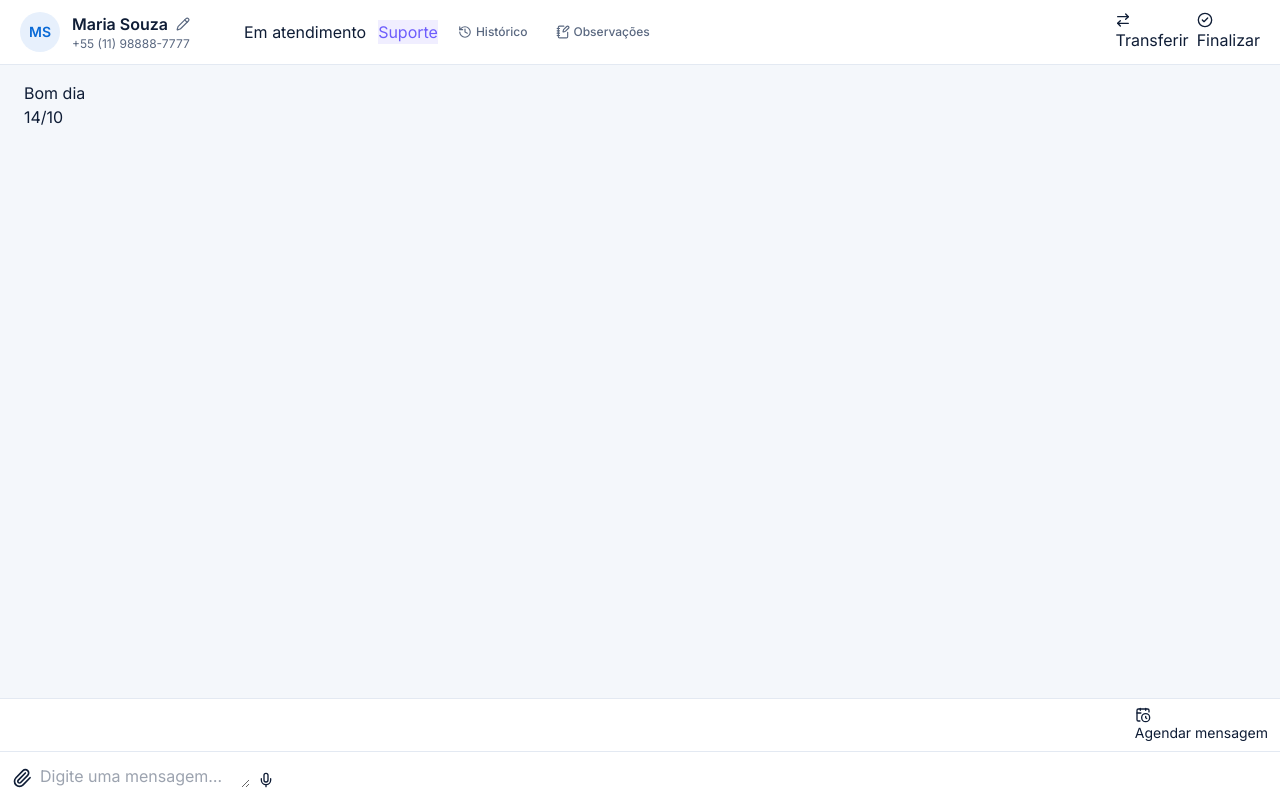
Test: ChatPanel › opens the ticket history with the technicians and the transfer timeline
Expected: the text "Bom dia" is shown, [24,83,85,103]
What coordinates should you click on to do the following:
click the button "Histórico"
I would click on:
 (493, 32)
Its box is [450,20,536,44].
(page scrolled)
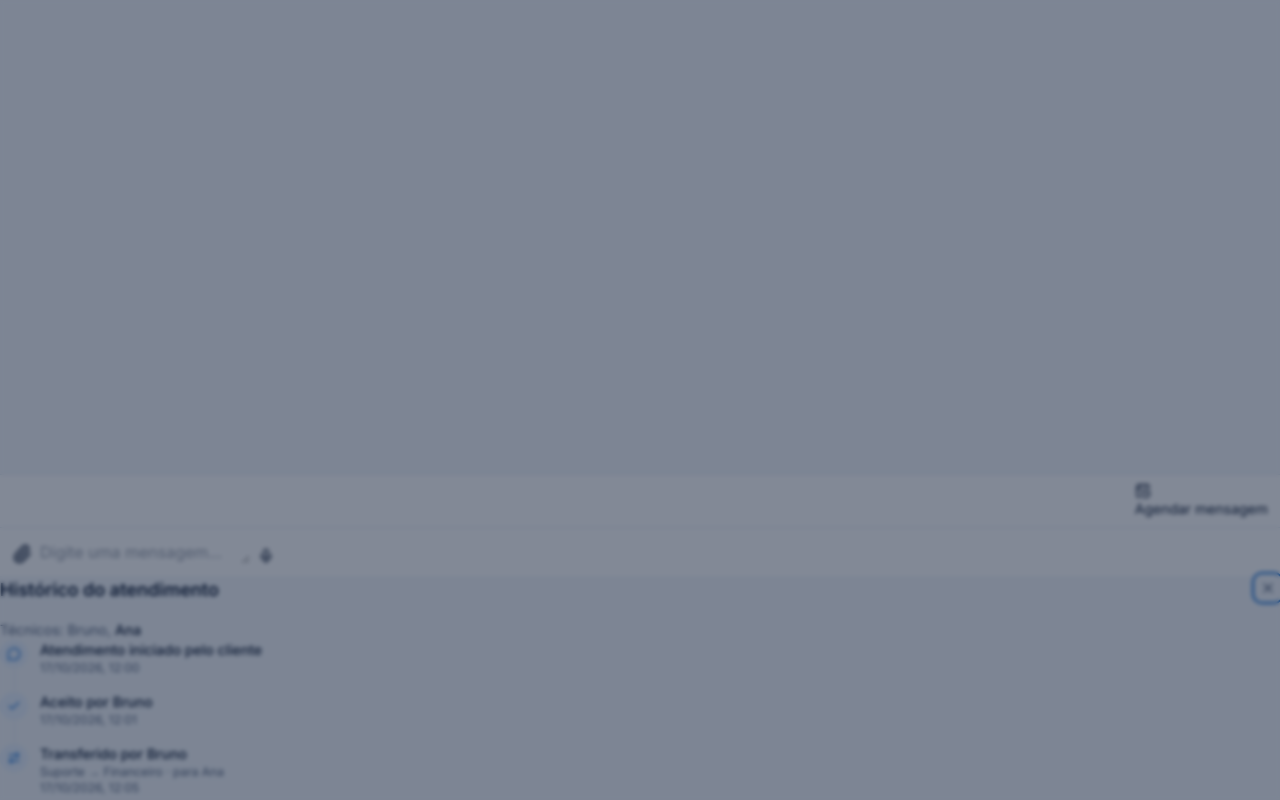
Now the text "Atendimento iniciado pelo cliente" is shown, box [40,640,262,660]
Now the text "Aceito por Bruno" is shown, box [40,692,153,712]
Now the text "Transferido por Bruno" is shown, box [40,745,187,762]
